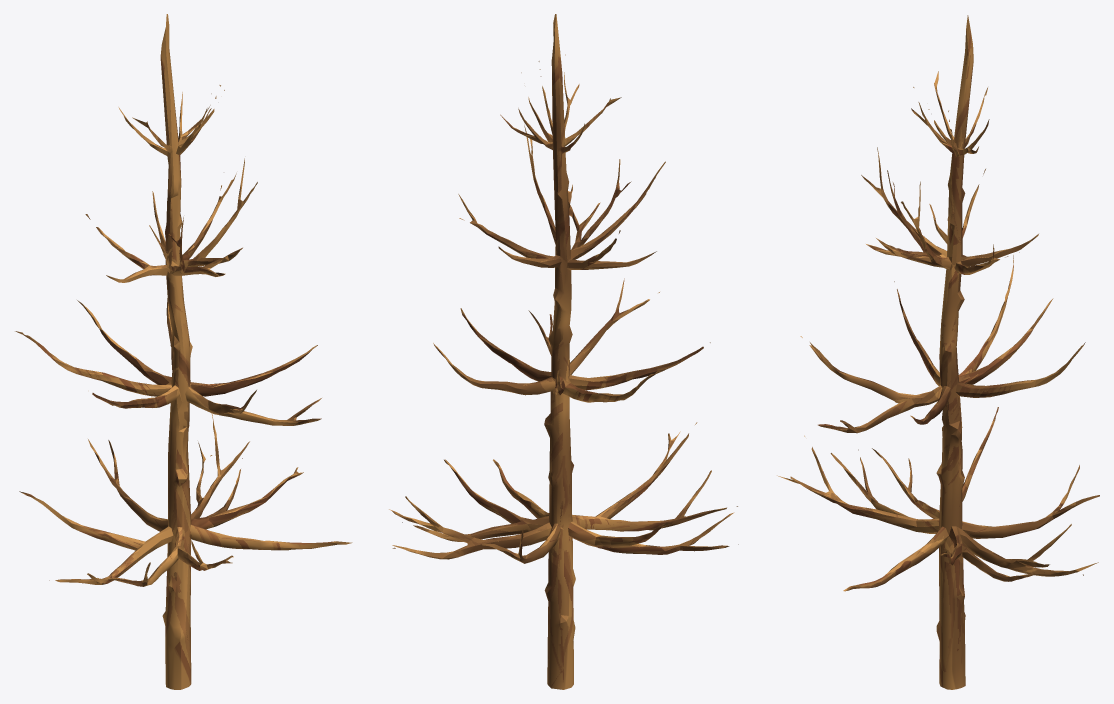
Rendered from new_tree.fbx.
The picture shows the model from 3 angles, left to right: view 1: azimuth 30°, elevation 25°; view 2: azimuth 150°, elevation 25°; view 3: azimuth 270°, elevation 25°; orthographic projection.
Parts seen in each view (by area): view 1: tree; view 2: tree; view 3: tree.
Boxes of the visible parts, x1,y1,x2,y2 form: tree: [15, 14, 352, 689]; tree: [389, 14, 738, 689]; tree: [777, 15, 1099, 689].
Size of the model in its own units: 113 by 258 by 113.
1 material, 1 textured.
